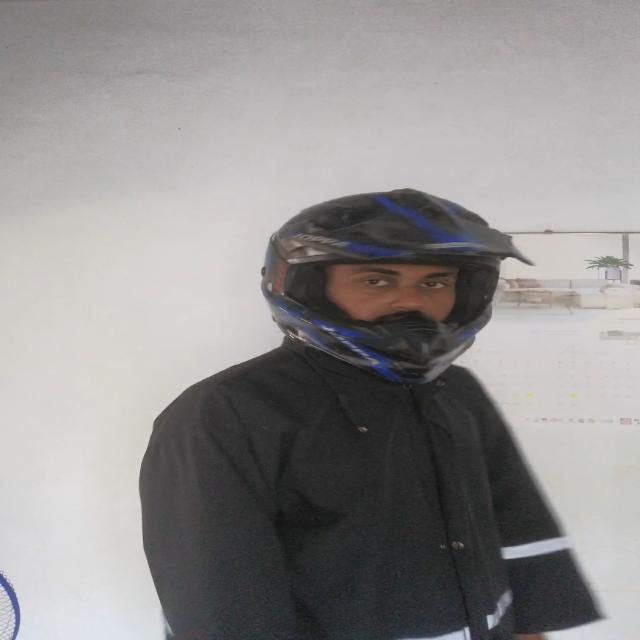Helmet_Wearer: (242, 176, 536, 409)
Jacket_Wearer: (127, 287, 605, 640)
Person: (142, 184, 600, 640)
